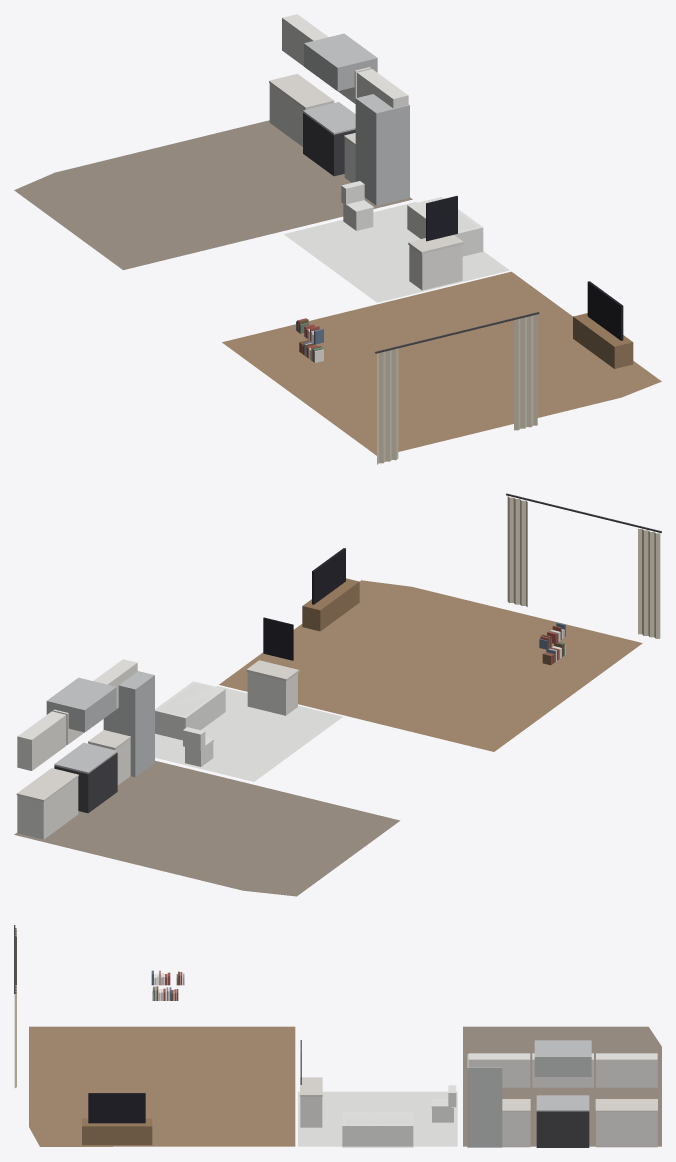
The model's file is fine-s2.glb.
3 renders of one model, top to bottom at view 1: azimuth 30°, elevation 25°; view 2: azimuth 150°, elevation 25°; view 3: azimuth 270°, elevation 25°, orthographic. The views are drawn at different scales.
Visible parts, largest first — view 1: soft-s2, range.001, fridge.001, vanity.001, tv-console.002, counter-run.002, bathtub.001, kitchen-upper.003, toilet.001, kitchen-upper.005; view 2: soft-s2, range.001, vanity.001, counter-run.002, fridge.001, tv-console.002, bathtub.001, kitchen-upper.003, counter-run.003, toilet.001, kitchen-upper.005; view 3: soft-s2, range.001, tv-console.002, counter-run.002, fridge.001, bathtub.001, kitchen-upper.003, kitchen-upper.005, counter-run.003, vanity.001, kitchen-upper.004, toilet.001.
Part boxes in pixels (x1=…): soft-s2: x1=14, y1=120, x2=661, y2=464; range.001: x1=303, y1=33, x2=377, y2=176; fridge.001: x1=355, y1=94, x2=409, y2=205; vanity.001: x1=408, y1=196, x2=463, y2=290; tv-console.002: x1=573, y1=281, x2=633, y2=368; counter-run.002: x1=269, y1=74, x2=334, y2=146; bathtub.001: x1=407, y1=197, x2=483, y2=256; kitchen-upper.003: x1=282, y1=14, x2=328, y2=66; toilet.001: x1=341, y1=181, x2=373, y2=230; kitchen-upper.005: x1=357, y1=69, x2=408, y2=108; soft-s2: x1=14, y1=493, x2=661, y2=896; range.001: x1=46, y1=677, x2=117, y2=813; vanity.001: x1=246, y1=617, x2=299, y2=715; counter-run.002: x1=16, y1=768, x2=78, y2=839; fridge.001: x1=103, y1=671, x2=154, y2=777; tv-console.002: x1=302, y1=548, x2=359, y2=631; bathtub.001: x1=155, y1=681, x2=225, y2=740; kitchen-upper.003: x1=17, y1=711, x2=66, y2=770; counter-run.003: x1=88, y1=730, x2=130, y2=785; toilet.001: x1=183, y1=727, x2=213, y2=766; kitchen-upper.005: x1=93, y1=659, x2=137, y2=708; soft-s2: x1=14, y1=925, x2=661, y2=1146; range.001: x1=534, y1=1040, x2=591, y2=1147; tv-console.002: x1=82, y1=1093, x2=152, y2=1145; counter-run.002: x1=595, y1=1099, x2=657, y2=1147; fridge.001: x1=467, y1=1054, x2=502, y2=1147; bathtub.001: x1=342, y1=1112, x2=413, y2=1147; kitchen-upper.003: x1=596, y1=1053, x2=657, y2=1087; kitchen-upper.005: x1=468, y1=1053, x2=530, y2=1087; counter-run.003: x1=502, y1=1099, x2=530, y2=1147; vanity.001: x1=300, y1=1040, x2=322, y2=1127; kitchen-upper.004: x1=532, y1=1053, x2=593, y2=1087; toilet.001: x1=431, y1=1085, x2=456, y2=1122.
Bounding box in the file's own units: 6.88 × 2.46 × 14.75.
